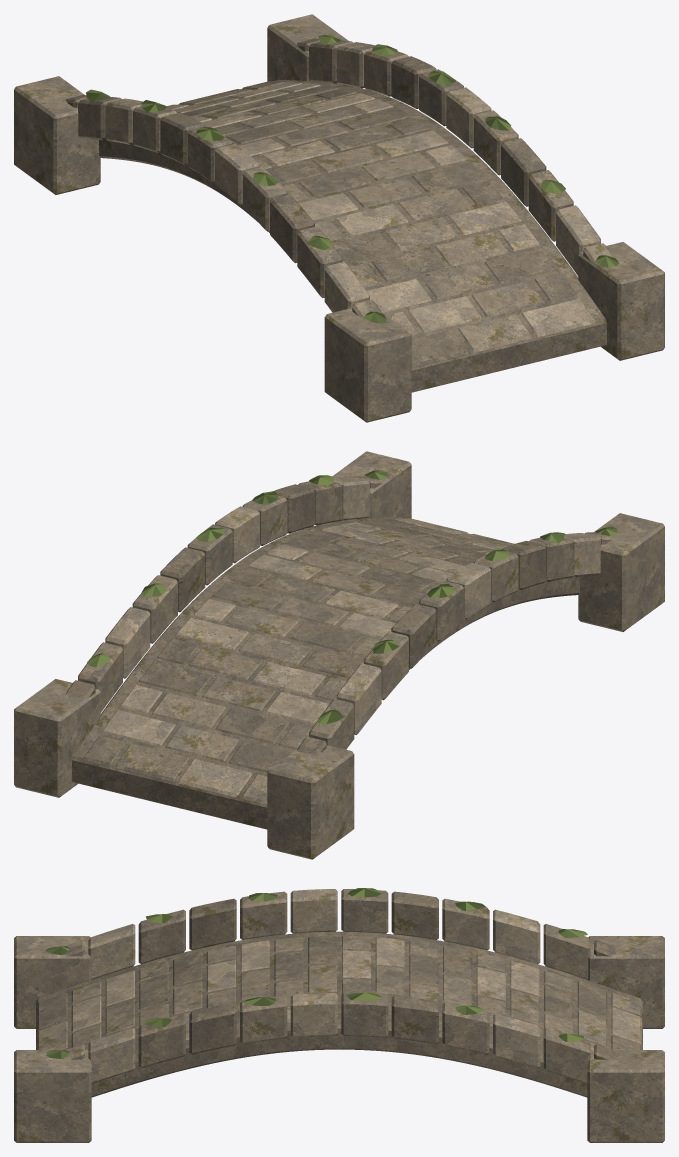
3 views of the same model, one above another, from view 1: azimuth 30°, elevation 25°; view 2: azimuth 150°, elevation 25°; view 3: azimuth 270°, elevation 25° (orthographic). The views are drawn at different scales.
Parts seen in each view (by area): view 1: moss-stone-bridge · evaluated preview mesh; view 2: moss-stone-bridge · evaluated preview mesh; view 3: moss-stone-bridge · evaluated preview mesh.
Boxes of the visible parts, box(x1,y1,x2,y2) form: moss-stone-bridge · evaluated preview mesh: box(14, 14, 664, 422); moss-stone-bridge · evaluated preview mesh: box(14, 451, 664, 859); moss-stone-bridge · evaluated preview mesh: box(14, 888, 664, 1142).
Size of the model in its own units: 9.5 by 4.44 by 19.3.
7 materials, 4 textured.
